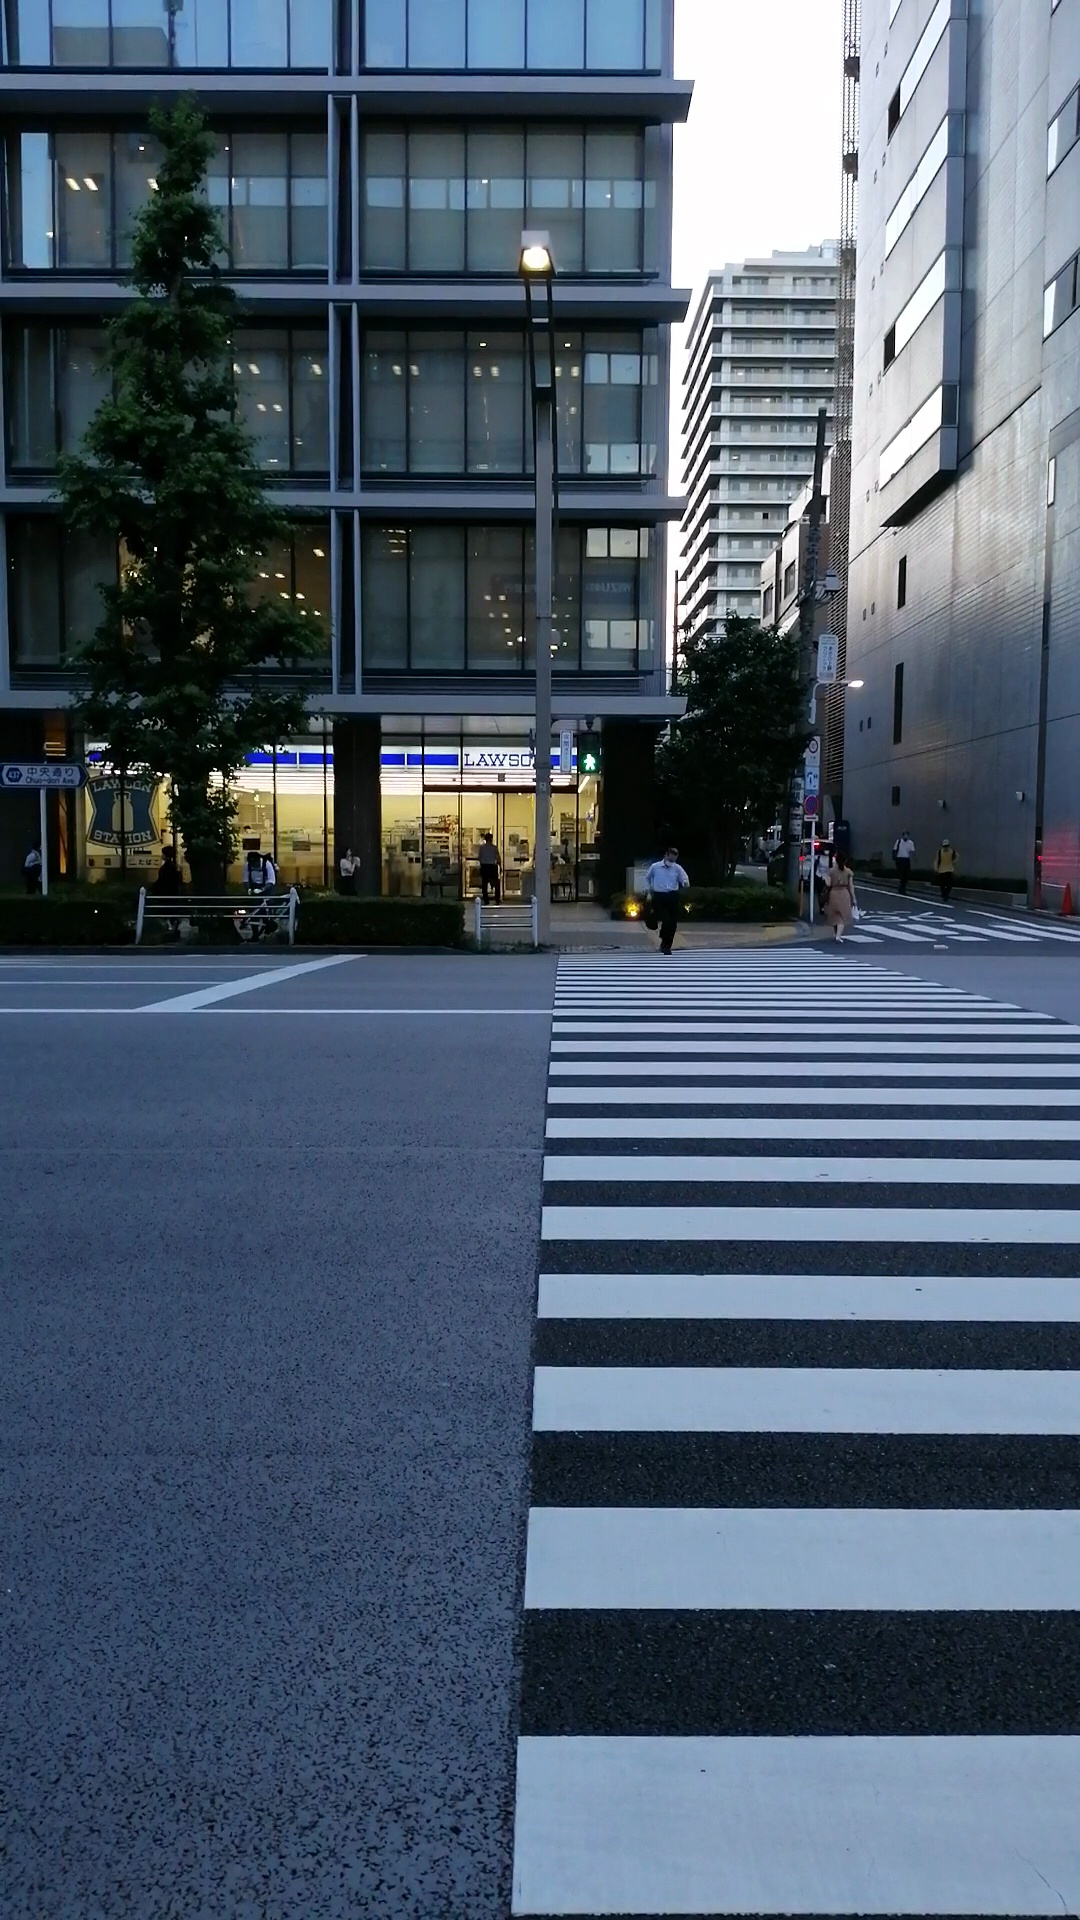green: (574, 727, 601, 777)
